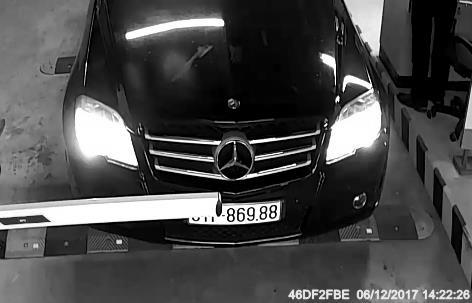License-plate: (180, 188, 294, 237)
